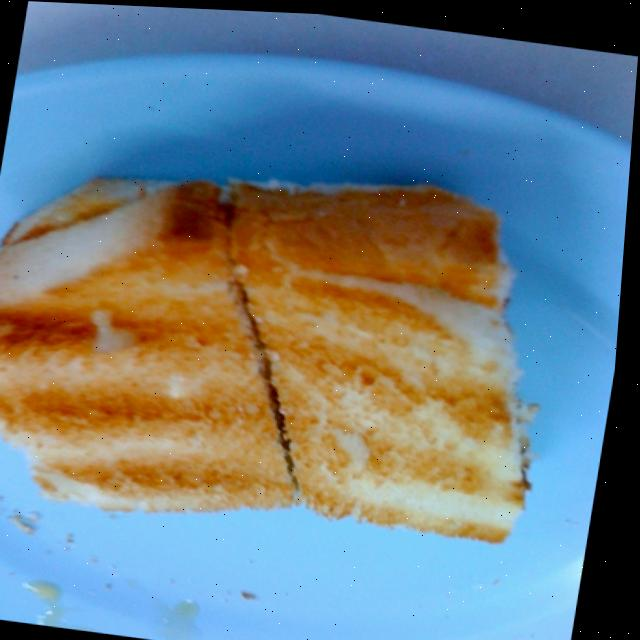面包点心: (0, 42, 628, 639)
